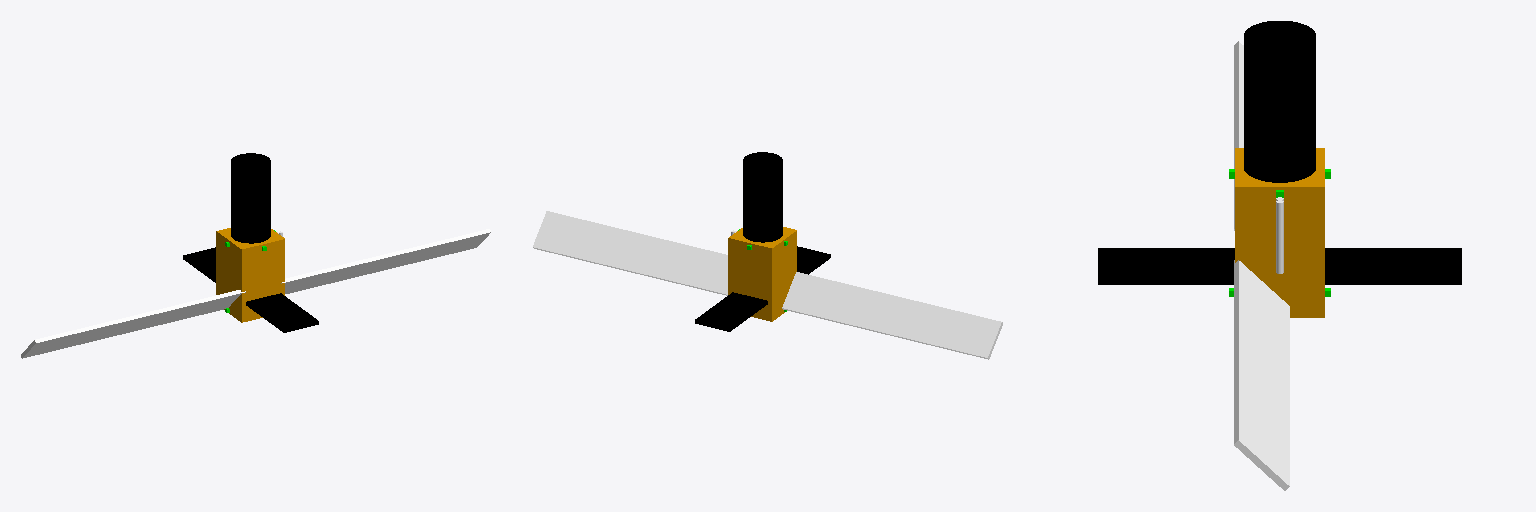
URDF robot description (satellite):
<?xml version="1.0" encoding="utf-8"?>
<!-- =================================================================================== -->
<!-- |    This document was autogenerated by xacro from satellite.xacro                | -->
<!-- |    EDITING THIS FILE BY HAND IS NOT RECOMMENDED                                 | -->
<!-- =================================================================================== -->
<robot name="satellite">
  <material name="blue">
    <color rgba="0 0 0.8 1"/>
  </material>
  <material name="black">
    <color rgba="0 0 0 1"/>
  </material>
  <material name="green">
    <color rgba="0 1 0 1"/>
  </material>
  <material name="white">
    <color rgba="1 1 1 1"/>
  </material>
  <!-- <link name="base_dummy"></link> -->
  <!-- links -->
  <link name="base_link">
    <inertial>
      <mass value="60"/>
      <origin xyz="0 0 0"/>
      <inertia ixx="150.0" ixy="0.0" ixz="0.0" iyy="150.0" iyz="0.0" izz="384.0"/>
    </inertial>
    <!-- <visual>
            <origin rpy="0 0 0" xyz="0 0 0"/>
            <geometry>

                <mesh filename="package://exotica_satellite_dynamics_solver/resources/robots/satellite/satellite_base.dae" scale="1 1 1"/>
            </geometry>
        </visual> -->
    <visual>
      <geometry>
        <box size="2.5 2.5 4"/>
      </geometry>
    </visual>
    <!-- <collision>
            <origin rpy="0 0 0" xyz="0 0 0"/>
            <geometry>
                <mesh filename="package://exotica_satellite_dynamics_solver/resources/robots/quadrotor/quadrotor_base_convex_hull.stl"/>
            </geometry>
        </collision> -->
  </link>
  <!-- <joint name="base_to_dummy" type="fixed">
        <parent link="base_dummy"/>
        <child link="base_link"/>
        <origin xyz="0 0 0"/>
    </joint> -->
  <!-- antenna and communication arrays -->
  <link name="front">
    <visual>
      <geometry>
        <cylinder length="4" radius="1"/>
      </geometry>
      <origin rpy="0 0 0" xyz="0 0 2"/>
      <material name="black"/>
    </visual>
    <inertial>
      <mass value="1e-12"/>
      <origin xyz="0 0 0"/>
      <inertia ixx="1e-12" ixy="0.0" ixz="0.0" iyy="1e-12" iyz="0.0" izz="1e-12"/>
    </inertial>
  </link>
  <link name="left_array">
    <visual>
      <geometry>
        <box size="12 0.2 2"/>
      </geometry>
      <origin rpy="0.785 0 0" xyz="-6 0 0"/>
      <material name="white"/>
    </visual>
    <inertial>
      <mass value="1e-12"/>
      <origin xyz="0 0 0"/>
      <inertia ixx="1e-12" ixy="0.0" ixz="0.0" iyy="1e-12" iyz="0.0" izz="1e-12"/>
    </inertial>
  </link>
  <link name="right_array">
    <visual>
      <geometry>
        <box size="12 0.2 2"/>
      </geometry>
      <origin rpy="0.785 0 0" xyz="6 0 0"/>
      <material name="white"/>
    </visual>
    <inertial>
      <mass value="1e-12"/>
      <origin xyz="0 0 0"/>
      <inertia ixx="1e-12" ixy="0.0" ixz="0.0" iyy="1e-12" iyz="0.0" izz="1e-12"/>
    </inertial>
  </link>
  <link name="top_array">
    <visual>
      <geometry>
        <box size="2 4 0.2"/>
      </geometry>
      <origin rpy="0 0 0" xyz="0 2 0"/>
      <material name="black"/>
    </visual>
    <inertial>
      <mass value="1e-12"/>
      <origin xyz="0 0 0"/>
      <inertia ixx="1e-12" ixy="0.0" ixz="0.0" iyy="1e-12" iyz="0.0" izz="1e-12"/>
    </inertial>
  </link>
  <link name="bot_array">
    <visual>
      <geometry>
        <box size="2 4 0.2"/>
      </geometry>
      <origin rpy="0 0 0" xyz="0 -2 0"/>
      <material name="black"/>
    </visual>
    <inertial>
      <mass value="1e-12"/>
      <origin xyz="0 0 0"/>
      <inertia ixx="1e-12" ixy="0.0" ixz="0.0" iyy="1e-12" iyz="0.0" izz="1e-12"/>
    </inertial>
  </link>
  <link name="thruster_bot">
    <visual>
      <geometry>
        <box size="0.2 0.2 0.2"/>
      </geometry>
      <origin rpy="0 0 0" xyz="0 0 0"/>
      <material name="green"/>
    </visual>
    <inertial>
      <mass value="0.001"/>
      <!-- <origin xyz="0 0 0"/> -->
      <inertia ixx="1e-3" ixy="0.0" ixz="0.0" iyy="1e-3" iyz="0.0" izz="1e-3"/>
    </inertial>
  </link>
  <!-- Prismatic joints with no effort so pinocchio recognizes
            them as controllable joints.
         -->
  <joint name="base_to_thruster_bot" type="fixed">
    <!-- <limit effort="1e-10" lower="0" upper="1e-10" velocity="1e-10"/> -->
    <!-- <axis xyz="${axis}"/> -->
    <!-- <limit effort="1000.0" lower="0.0" upper="0.548" velocity="0.5"/> -->
    <parent link="base_link"/>
    <child link="thruster_bot"/>
    <origin xyz="0 0 -2"/>
  </joint>
  <link name="thruster_bot_1">
    <visual>
      <geometry>
        <box size="0.2 0.2 0.2"/>
      </geometry>
      <origin rpy="0 0 0" xyz="0 0 0"/>
      <material name="green"/>
    </visual>
    <inertial>
      <mass value="0.001"/>
      <!-- <origin xyz="0 0 0"/> -->
      <inertia ixx="1e-3" ixy="0.0" ixz="0.0" iyy="1e-3" iyz="0.0" izz="1e-3"/>
    </inertial>
  </link>
  <!-- Prismatic joints with no effort so pinocchio recognizes
            them as controllable joints.
         -->
  <joint name="base_to_thruster_bot_1" type="fixed">
    <!-- <limit effort="1e-10" lower="0" upper="1e-10" velocity="1e-10"/> -->
    <!-- <axis xyz="${axis}"/> -->
    <!-- <limit effort="1000.0" lower="0.0" upper="0.548" velocity="0.5"/> -->
    <parent link="base_link"/>
    <child link="thruster_bot_1"/>
    <origin xyz="0 -1.3 -1.8"/>
  </joint>
  <link name="thruster_bot_2">
    <visual>
      <geometry>
        <box size="0.2 0.2 0.2"/>
      </geometry>
      <origin rpy="0 0 0" xyz="0 0 0"/>
      <material name="green"/>
    </visual>
    <inertial>
      <mass value="0.001"/>
      <!-- <origin xyz="0 0 0"/> -->
      <inertia ixx="1e-3" ixy="0.0" ixz="0.0" iyy="1e-3" iyz="0.0" izz="1e-3"/>
    </inertial>
  </link>
  <!-- Prismatic joints with no effort so pinocchio recognizes
            them as controllable joints.
         -->
  <joint name="base_to_thruster_bot_2" type="fixed">
    <!-- <limit effort="1e-10" lower="0" upper="1e-10" velocity="1e-10"/> -->
    <!-- <axis xyz="${axis}"/> -->
    <!-- <limit effort="1000.0" lower="0.0" upper="0.548" velocity="0.5"/> -->
    <parent link="base_link"/>
    <child link="thruster_bot_2"/>
    <origin xyz="-1.3 0 -1.8"/>
  </joint>
  <link name="thruster_bot_3">
    <visual>
      <geometry>
        <box size="0.2 0.2 0.2"/>
      </geometry>
      <origin rpy="0 0 0" xyz="0 0 0"/>
      <material name="green"/>
    </visual>
    <inertial>
      <mass value="0.001"/>
      <!-- <origin xyz="0 0 0"/> -->
      <inertia ixx="1e-3" ixy="0.0" ixz="0.0" iyy="1e-3" iyz="0.0" izz="1e-3"/>
    </inertial>
  </link>
  <!-- Prismatic joints with no effort so pinocchio recognizes
            them as controllable joints.
         -->
  <joint name="base_to_thruster_bot_3" type="fixed">
    <!-- <limit effort="1e-10" lower="0" upper="1e-10" velocity="1e-10"/> -->
    <!-- <axis xyz="${axis}"/> -->
    <!-- <limit effort="1000.0" lower="0.0" upper="0.548" velocity="0.5"/> -->
    <parent link="base_link"/>
    <child link="thruster_bot_3"/>
    <origin xyz="0 1.3 -1.8"/>
  </joint>
  <link name="thruster_bot_4">
    <visual>
      <geometry>
        <box size="0.2 0.2 0.2"/>
      </geometry>
      <origin rpy="0 0 0" xyz="0 0 0"/>
      <material name="green"/>
    </visual>
    <inertial>
      <mass value="0.001"/>
      <!-- <origin xyz="0 0 0"/> -->
      <inertia ixx="1e-3" ixy="0.0" ixz="0.0" iyy="1e-3" iyz="0.0" izz="1e-3"/>
    </inertial>
  </link>
  <!-- Prismatic joints with no effort so pinocchio recognizes
            them as controllable joints.
         -->
  <joint name="base_to_thruster_bot_4" type="fixed">
    <!-- <limit effort="1e-10" lower="0" upper="1e-10" velocity="1e-10"/> -->
    <!-- <axis xyz="${axis}"/> -->
    <!-- <limit effort="1000.0" lower="0.0" upper="0.548" velocity="0.5"/> -->
    <parent link="base_link"/>
    <child link="thruster_bot_4"/>
    <origin xyz="1.3 0 -1.8"/>
  </joint>
  <link name="thruster_top">
    <visual>
      <geometry>
        <box size="0.2 0.2 0.2"/>
      </geometry>
      <origin rpy="0 0 0" xyz="0 0 0"/>
      <material name="green"/>
    </visual>
    <inertial>
      <mass value="0.001"/>
      <!-- <origin xyz="0 0 0"/> -->
      <inertia ixx="1e-3" ixy="0.0" ixz="0.0" iyy="1e-3" iyz="0.0" izz="1e-3"/>
    </inertial>
  </link>
  <!-- Prismatic joints with no effort so pinocchio recognizes
            them as controllable joints.
         -->
  <joint name="base_to_thruster_top" type="fixed">
    <!-- <limit effort="1e-10" lower="0" upper="1e-10" velocity="1e-10"/> -->
    <!-- <axis xyz="${axis}"/> -->
    <!-- <limit effort="1000.0" lower="0.0" upper="0.548" velocity="0.5"/> -->
    <parent link="base_link"/>
    <child link="thruster_top"/>
    <origin xyz="0 0 2"/>
  </joint>
  <link name="thruster_top_1">
    <visual>
      <geometry>
        <box size="0.2 0.2 0.2"/>
      </geometry>
      <origin rpy="0 0 0" xyz="0 0 0"/>
      <material name="green"/>
    </visual>
    <inertial>
      <mass value="0.001"/>
      <!-- <origin xyz="0 0 0"/> -->
      <inertia ixx="1e-3" ixy="0.0" ixz="0.0" iyy="1e-3" iyz="0.0" izz="1e-3"/>
    </inertial>
  </link>
  <!-- Prismatic joints with no effort so pinocchio recognizes
            them as controllable joints.
         -->
  <joint name="base_to_thruster_top_1" type="fixed">
    <!-- <limit effort="1e-10" lower="0" upper="1e-10" velocity="1e-10"/> -->
    <!-- <axis xyz="${axis}"/> -->
    <!-- <limit effort="1000.0" lower="0.0" upper="0.548" velocity="0.5"/> -->
    <parent link="base_link"/>
    <child link="thruster_top_1"/>
    <origin xyz="0 -1.3 1.8"/>
  </joint>
  <link name="thruster_top_2">
    <visual>
      <geometry>
        <box size="0.2 0.2 0.2"/>
      </geometry>
      <origin rpy="0 0 0" xyz="0 0 0"/>
      <material name="green"/>
    </visual>
    <inertial>
      <mass value="0.001"/>
      <!-- <origin xyz="0 0 0"/> -->
      <inertia ixx="1e-3" ixy="0.0" ixz="0.0" iyy="1e-3" iyz="0.0" izz="1e-3"/>
    </inertial>
  </link>
  <!-- Prismatic joints with no effort so pinocchio recognizes
            them as controllable joints.
         -->
  <joint name="base_to_thruster_top_2" type="fixed">
    <!-- <limit effort="1e-10" lower="0" upper="1e-10" velocity="1e-10"/> -->
    <!-- <axis xyz="${axis}"/> -->
    <!-- <limit effort="1000.0" lower="0.0" upper="0.548" velocity="0.5"/> -->
    <parent link="base_link"/>
    <child link="thruster_top_2"/>
    <origin xyz="-1.3 0 1.8"/>
  </joint>
  <link name="thruster_top_3">
    <visual>
      <geometry>
        <box size="0.2 0.2 0.2"/>
      </geometry>
      <origin rpy="0 0 0" xyz="0 0 0"/>
      <material name="green"/>
    </visual>
    <inertial>
      <mass value="0.001"/>
      <!-- <origin xyz="0 0 0"/> -->
      <inertia ixx="1e-3" ixy="0.0" ixz="0.0" iyy="1e-3" iyz="0.0" izz="1e-3"/>
    </inertial>
  </link>
  <!-- Prismatic joints with no effort so pinocchio recognizes
            them as controllable joints.
         -->
  <joint name="base_to_thruster_top_3" type="fixed">
    <!-- <limit effort="1e-10" lower="0" upper="1e-10" velocity="1e-10"/> -->
    <!-- <axis xyz="${axis}"/> -->
    <!-- <limit effort="1000.0" lower="0.0" upper="0.548" velocity="0.5"/> -->
    <parent link="base_link"/>
    <child link="thruster_top_3"/>
    <origin xyz="0 1.3 1.8"/>
  </joint>
  <link name="thruster_top_4">
    <visual>
      <geometry>
        <box size="0.2 0.2 0.2"/>
      </geometry>
      <origin rpy="0 0 0" xyz="0 0 0"/>
      <material name="green"/>
    </visual>
    <inertial>
      <mass value="0.001"/>
      <!-- <origin xyz="0 0 0"/> -->
      <inertia ixx="1e-3" ixy="0.0" ixz="0.0" iyy="1e-3" iyz="0.0" izz="1e-3"/>
    </inertial>
  </link>
  <!-- Prismatic joints with no effort so pinocchio recognizes
            them as controllable joints.
         -->
  <joint name="base_to_thruster_top_4" type="fixed">
    <!-- <limit effort="1e-10" lower="0" upper="1e-10" velocity="1e-10"/> -->
    <!-- <axis xyz="${axis}"/> -->
    <!-- <limit effort="1000.0" lower="0.0" upper="0.548" velocity="0.5"/> -->
    <parent link="base_link"/>
    <child link="thruster_top_4"/>
    <origin xyz="1.3 0 1.8"/>
  </joint>
  <!-- <xacro:thruster name="bot_2" origin="-1.3 -1 -1.8"/> -->
  <!-- <xacro:thruster name="bot_3" origin="1.3 -1 -1.8"/> -->
  <!-- <xacro:thruster name="bot_4" origin="1 -1.3 -1.8"/> -->
  <!-- <xacro:thruster name="bot_5" origin="1.3 1 -1.8"/> -->
  <!-- <xacro:thruster name="bot_6" origin="1 1.3 -1.8"/> -->
  <!-- <xacro:thruster name="bot_7" origin="-1 1.3 -1.8"/> -->
  <!-- <xacro:thruster name="bot_8" origin="-1.3 1 -1.8"/> -->
  <!-- <xacro:thruster name="top" origin="0 0 2"/> -->
  <!-- <xacro:thruster name="top_1" origin="-1 -1.3 1.8"/> -->
  <!-- <xacro:thruster name="top_2" origin="-1.3 -1 1.8"/> -->
  <!-- <xacro:thruster name="top_3" origin="1.3 -1 1.8"/> -->
  <!-- <xacro:thruster name="top_4" origin="1 -1.3 1.8"/> -->
  <!-- <xacro:thruster name="top_5" origin="1.3 1 1.8"/> -->
  <!-- <xacro:thruster name="top_6" origin="1 1.3 1.8"/> -->
  <!-- <xacro:thruster name="top_7" origin="-1 1.3 1.8"/> -->
  <!-- <xacro:thruster name="top_8" origin="-1.3 1 1.8"/> -->
  <!-- joints -->
  <joint name="base_to_front" type="fixed">
    <parent link="base_link"/>
    <child link="front"/>
    <origin xyz="0 0 2"/>
  </joint>
  <joint name="base_to_left_array" type="fixed">
    <parent link="base_link"/>
    <child link="left_array"/>
    <origin xyz="-1 -0.5 -1"/>
  </joint>
  <joint name="base_to_right_array" type="fixed">
    <parent link="base_link"/>
    <child link="right_array"/>
    <origin xyz="1 -0.5 -1"/>
  </joint>
  <joint name="base_to_top_array" type="fixed">
    <parent link="base_link"/>
    <child link="top_array"/>
    <origin xyz="0 1 -1"/>
  </joint>
  <joint name="base_to_bot_array" type="fixed">
    <parent link="base_link"/>
    <child link="bot_array"/>
    <origin xyz="0 -1 -1"/>
  </joint>
  <!-- arm -->
  <link name="arm_one">
    <visual>
      <geometry>
        <cylinder length="0.5" radius="0.1"/>
      </geometry>
      <origin rpy="0 0 0" xyz="0 0 0"/>
      <material name="white"/>
    </visual>
    <inertial>
      <mass value="0"/>
      <origin xyz="0 0 0"/>
      <inertia ixx="0" ixy="0.0" ixz="0.0" iyy="0" iyz="0.0" izz="0"/>
    </inertial>
  </link>
  <link name="arm_two">
    <visual>
      <geometry>
        <cylinder length="2" radius="0.1"/>
      </geometry>
      <origin rpy="0 0 0" xyz="0 0 1"/>
      <material name="white"/>
    </visual>
    <inertial>
      <mass value="10"/>
      <origin xyz="0 0 0"/>
      <inertia ixx="13.3333333333" ixy="0.0" ixz="0.0" iyy="0" iyz="0.0" izz="13.3333333333"/>
    </inertial>
  </link>
  <link name="arm_three">
    <visual>
      <geometry>
        <cylinder length="2" radius="0.1"/>
      </geometry>
      <origin rpy="0 0 0" xyz="0.2 0 -1"/>
      <material name="white"/>
    </visual>
    <inertial>
      <mass value="10"/>
      <origin xyz="0 0 0"/>
      <inertia ixx="13.3333333333" ixy="0.0" ixz="0.0" iyy="0" iyz="0.0" izz="13.3333333333"/>
    </inertial>
  </link>
  <joint name="base_to_arm" type="revolute">
    <parent link="base_link"/>
    <child link="arm_one"/>
    <limit effort="100.0" lower="-1.57" upper="1.57" velocity="0.5"/>
    <axis xyz="1 0 0"/>
    <origin xyz="1.5 0 -0.25"/>
  </joint>
  <joint name="arm_one_to_two" type="revolute">
    <parent link="arm_one"/>
    <child link="arm_two"/>
    <limit effort="100.0" lower="0" upper="3.14" velocity="0.5"/>
    <axis xyz="0 1 0"/>
    <origin xyz="0 0 0"/>
  </joint>
  <joint name="arm_two_to_three" type="revolute">
    <parent link="arm_two"/>
    <child link="arm_three"/>
    <limit effort="100.0" lower="-1.57" upper="1.57" velocity="0.5"/>
    <axis xyz="0 1 0"/>
    <origin xyz="0 0 2"/>
  </joint>
</robot>

--- Facts derived from the render (not from the file) ---
Views: 3 orthographic renders of the robot side by side, from view 1: azimuth 30°, elevation 25°; view 2: azimuth 150°, elevation 25°; view 3: azimuth 270°, elevation 25°.
Model satellite with 19 links and 18 joints (3 revolute, 15 fixed), rooted at base_link, posed every joint at zero.
Links seen in each view (by area): view 1: base_link, front, left_array, right_array, bot_array, top_array; view 2: left_array, right_array, base_link, front, top_array, bot_array; view 3: front, right_array, base_link, top_array, bot_array, left_array, arm_three.
Boxes of the visible links, <box> form: base_link: <box>216,228,284,322</box>; front: <box>231,153,270,243</box>; left_array: <box>21,290,245,358</box>; right_array: <box>281,229,490,293</box>; bot_array: <box>246,293,318,332</box>; top_array: <box>183,247,215,282</box>; left_array: <box>782,272,1002,359</box>; right_array: <box>533,211,727,295</box>; base_link: <box>728,227,796,321</box>; front: <box>743,152,782,242</box>; top_array: <box>695,292,767,331</box>; bot_array: <box>797,246,830,274</box>; front: <box>1244,21,1315,182</box>; right_array: <box>1234,260,1289,490</box>; base_link: <box>1235,148,1324,317</box>; top_array: <box>1325,248,1461,284</box>; bot_array: <box>1098,248,1234,284</box>; left_array: <box>1234,41,1243,230</box>; arm_three: <box>1276,200,1283,268</box>.
Bounding box of the posed robot: 26 × 10 × 8.1 m (x, y, z).
Geometry: primitives only (box / cylinder / sphere), no mesh files.